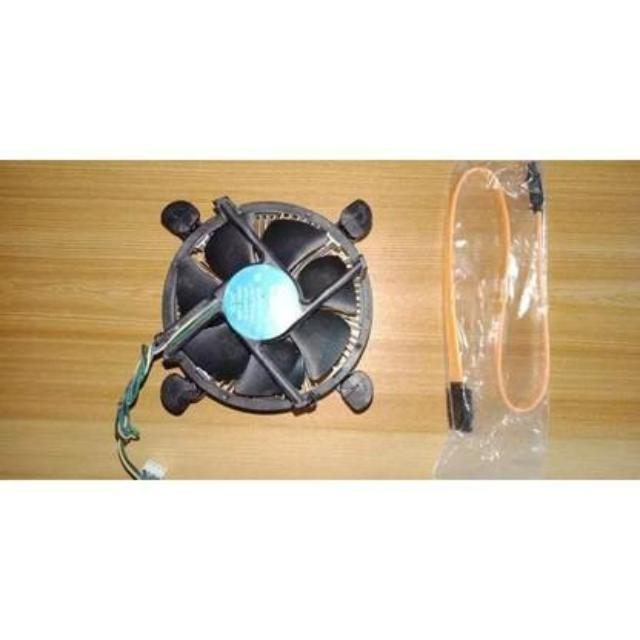CPU_Fan: (159, 187, 381, 418)
